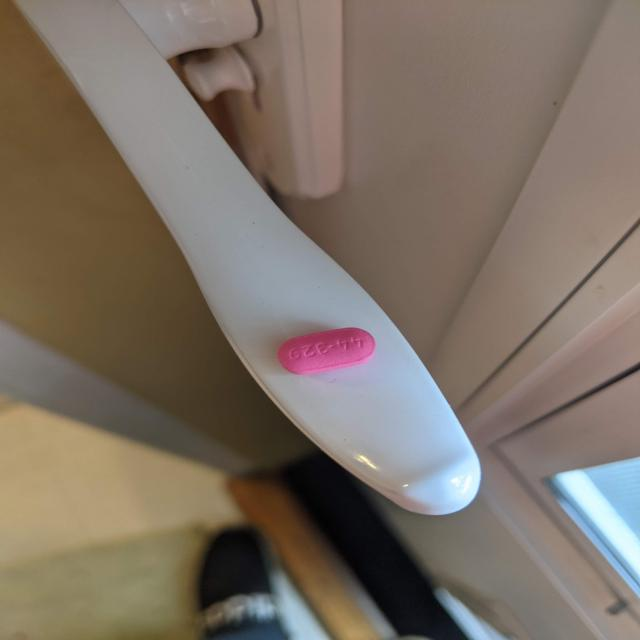non-organic waste: (276, 326, 378, 376)
